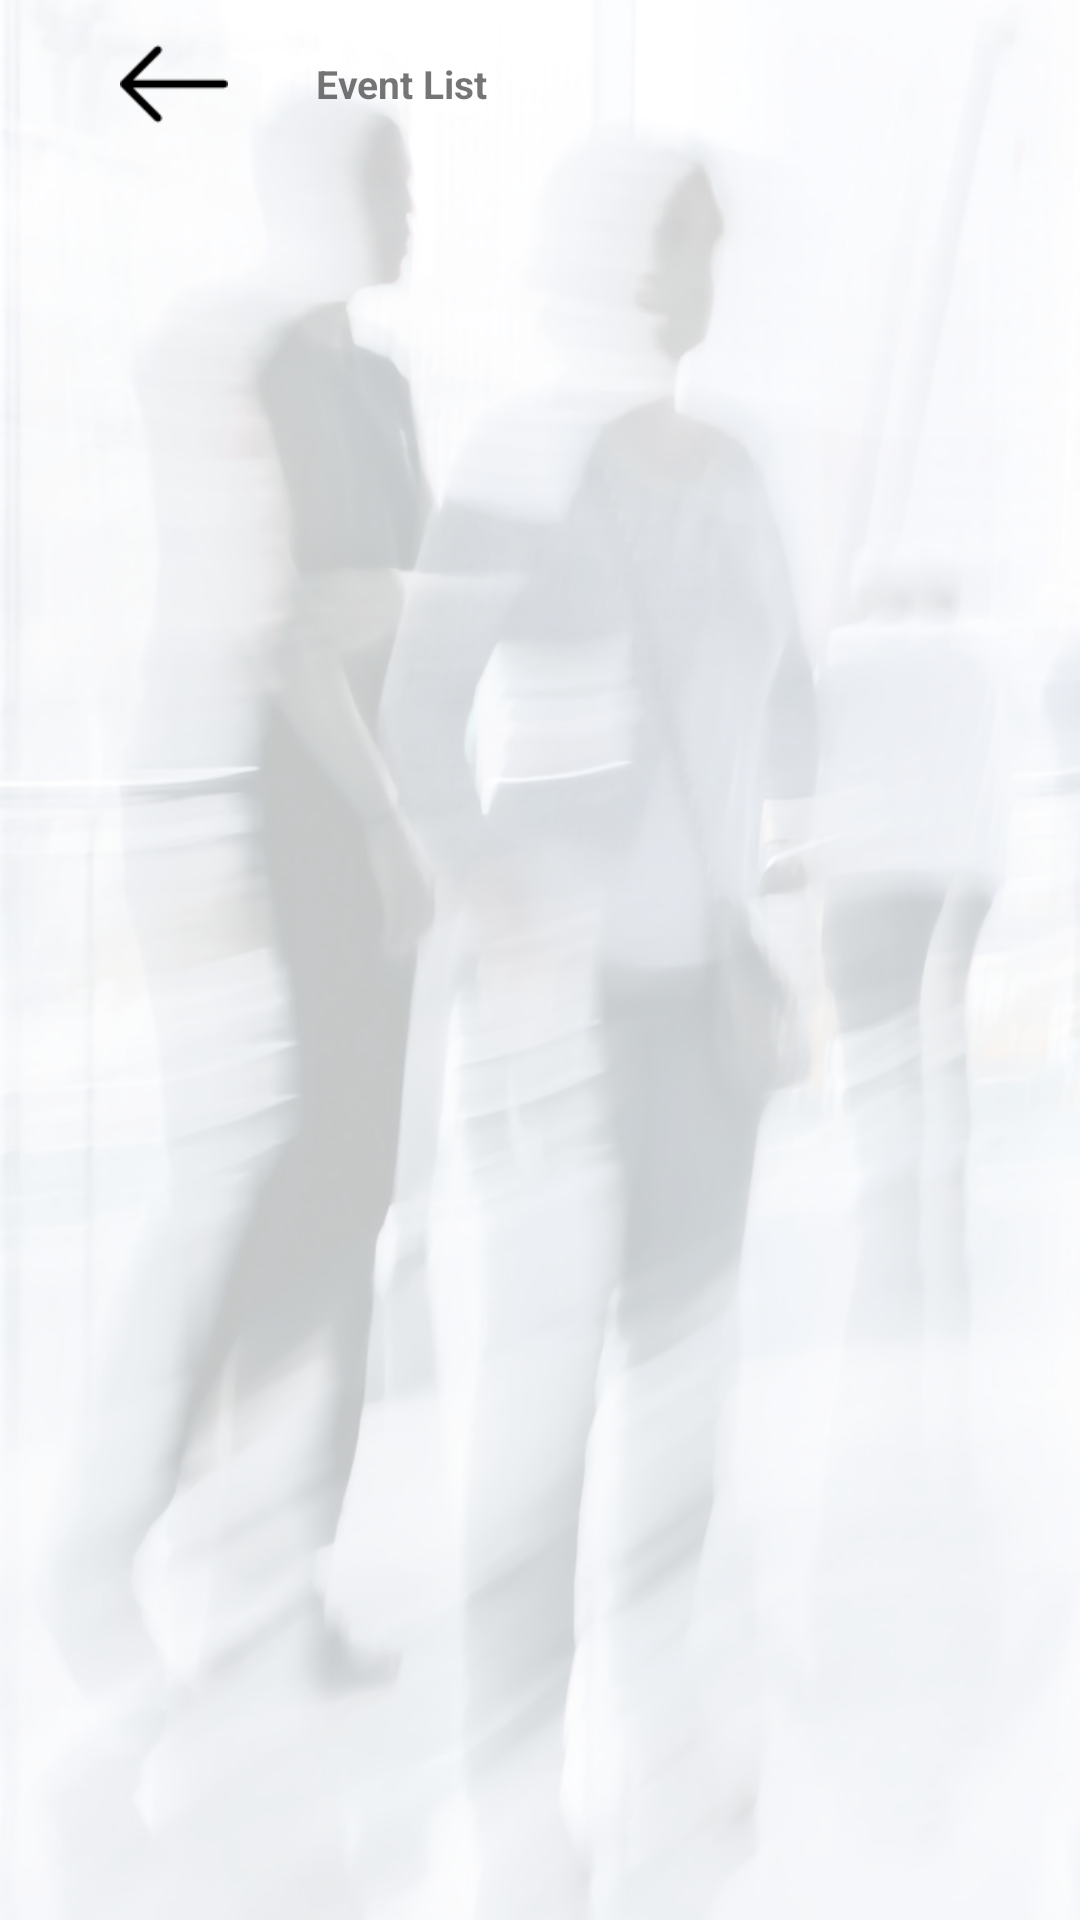

Icon click points for this 1080*1920 phone screenshot, format (x=x, y=y):
back arrow: (x=174, y=84)
